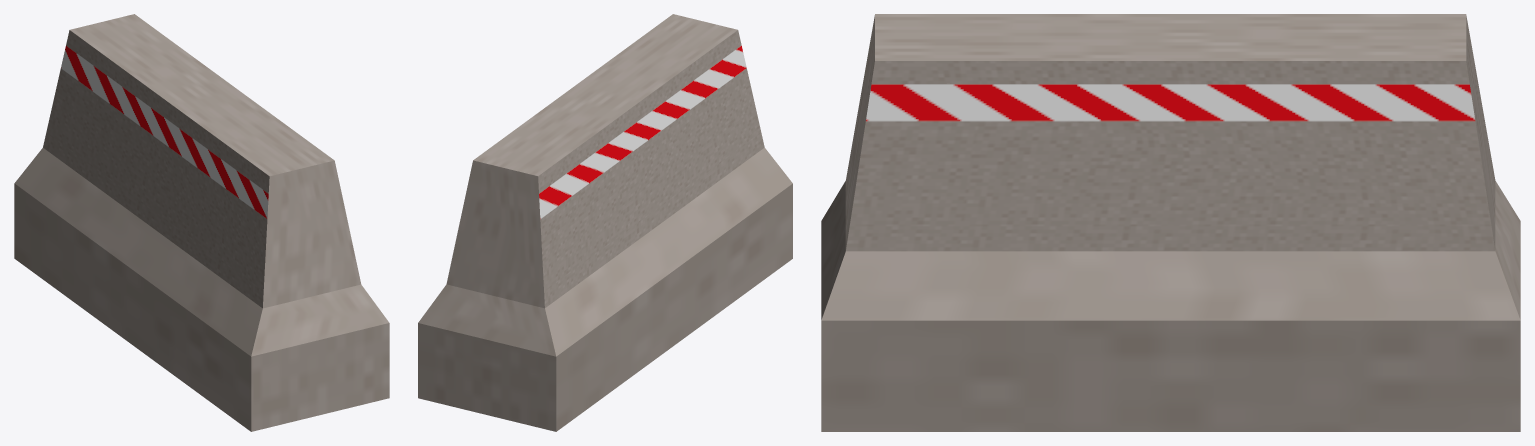
File: trafficbarrier.fbx
3 renders of one model, left to right at view 1: azimuth 30°, elevation 25°; view 2: azimuth 150°, elevation 25°; view 3: azimuth 270°, elevation 25°, orthographic. The views are drawn at different scales.
Parts seen in each view (by area): view 1: Cube; view 2: Cube; view 3: Cube.
Part boxes in pixels (x1,y1,x2,y2): Cube: (14, 14, 389, 431); Cube: (418, 14, 792, 431); Cube: (821, 14, 1520, 431).
Bounding box in the file's own units: 124 × 200 × 368.
